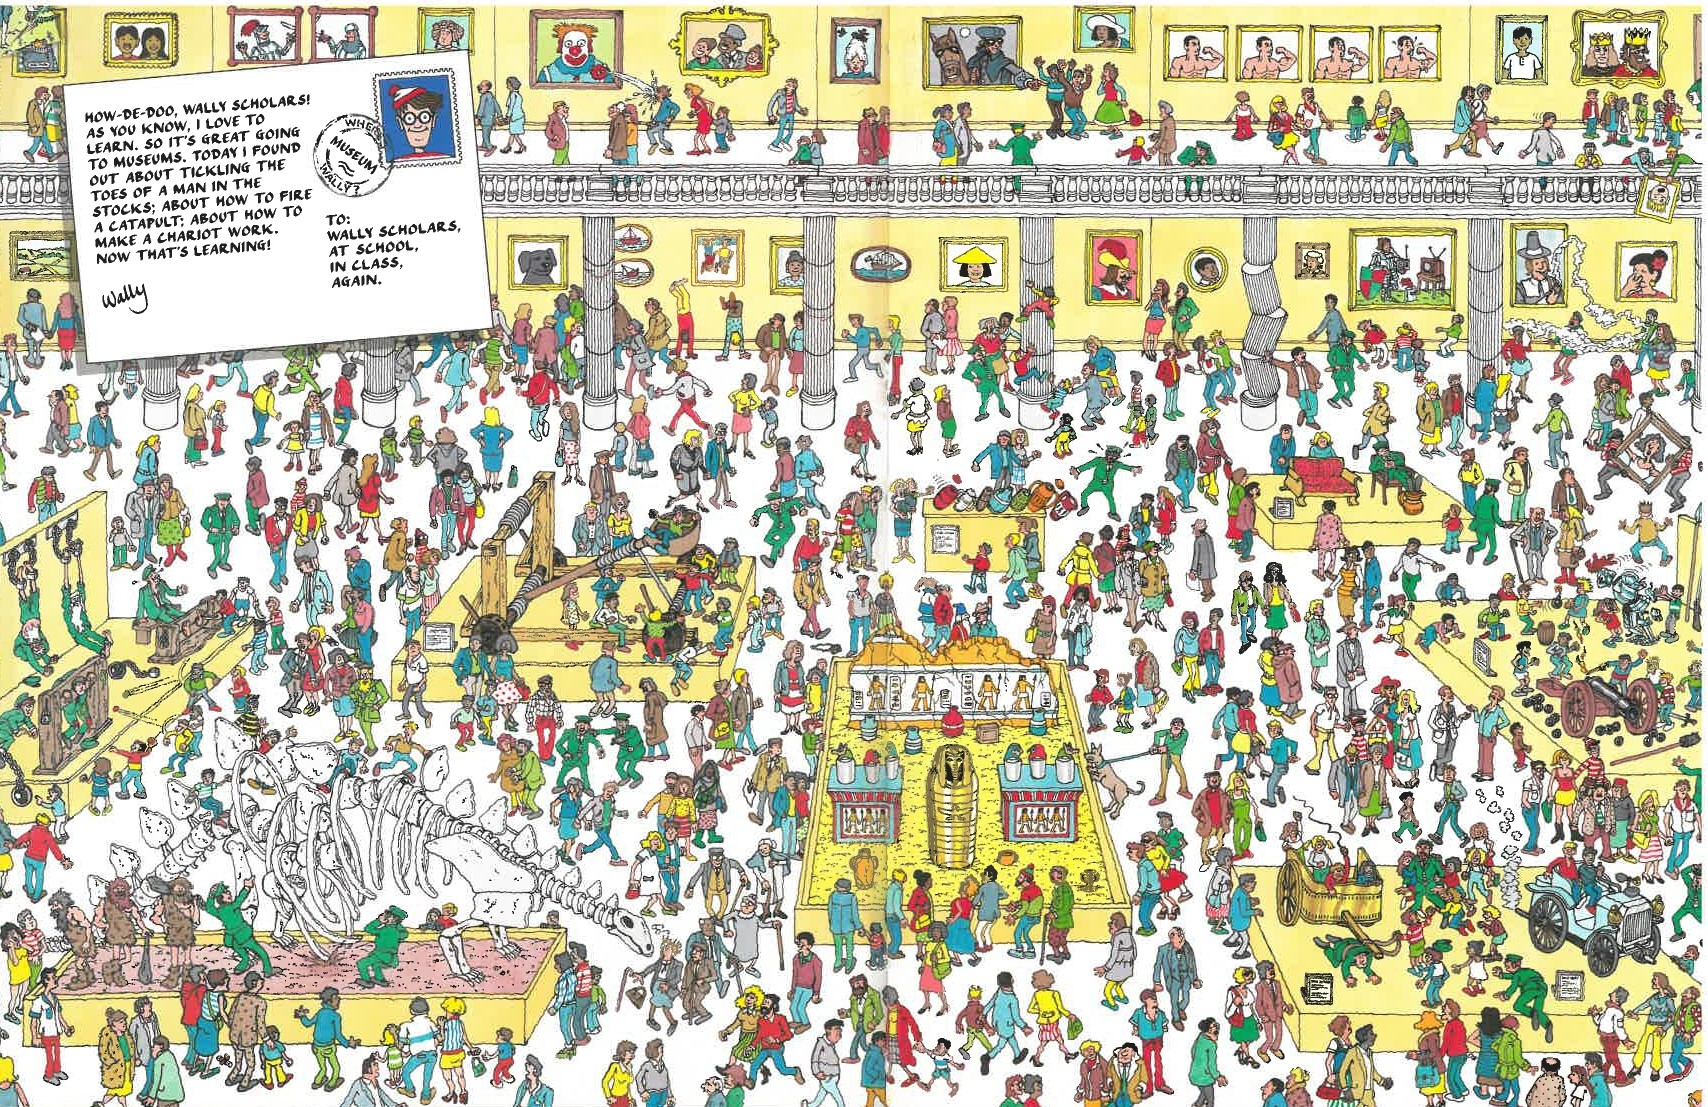waldos: (386, 82, 459, 163), (1569, 733, 1608, 793)
